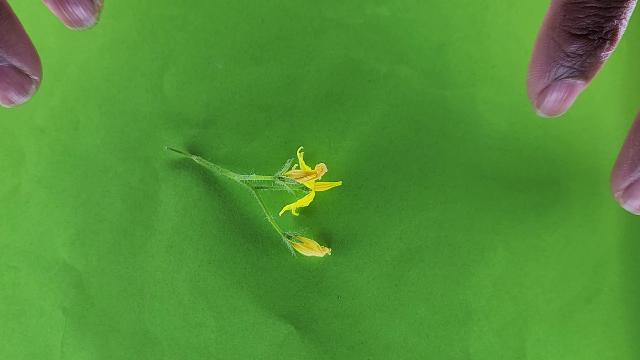Anthesis: (278, 148, 343, 217), (282, 231, 332, 257)
